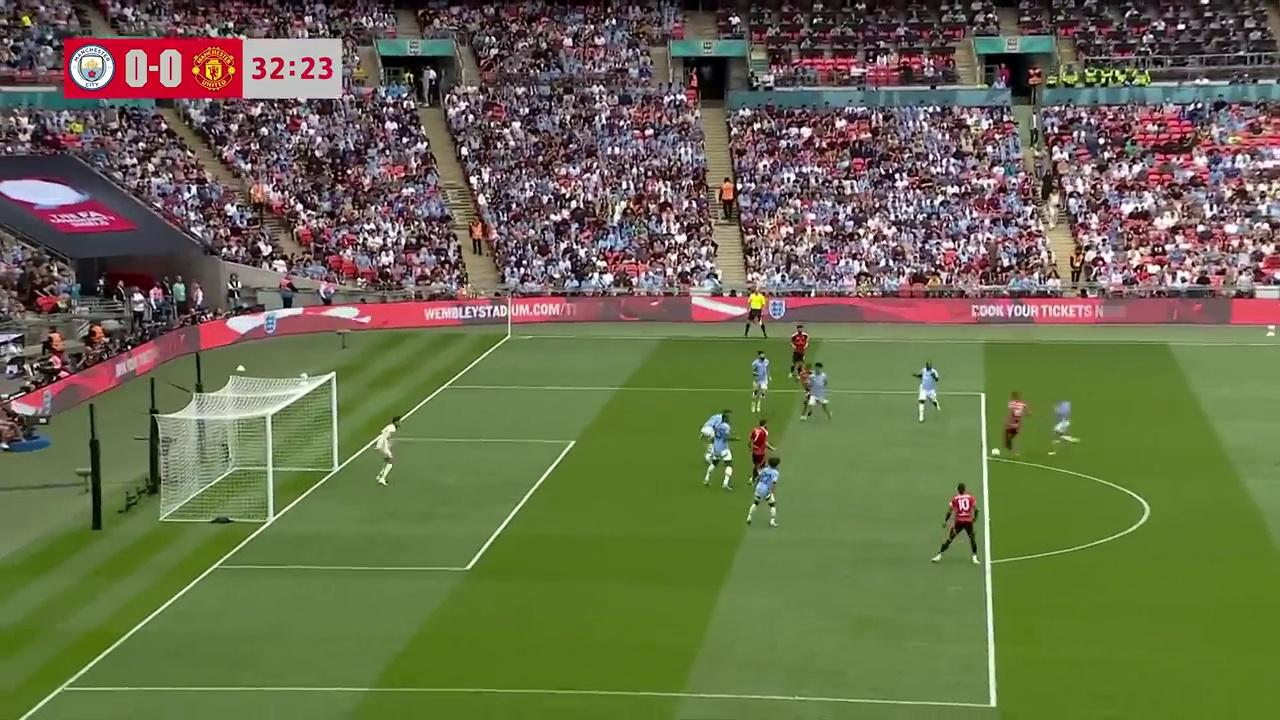ball: (990, 445, 1000, 459)
player: (932, 482, 979, 564), (746, 456, 782, 526), (700, 411, 734, 484), (702, 426, 733, 490), (1001, 391, 1031, 455), (1047, 397, 1077, 454), (748, 420, 774, 484), (803, 363, 832, 420), (913, 361, 940, 422), (375, 418, 396, 486), (799, 364, 823, 421), (750, 349, 770, 409), (787, 328, 807, 380)
referee: (749, 290, 768, 338)
